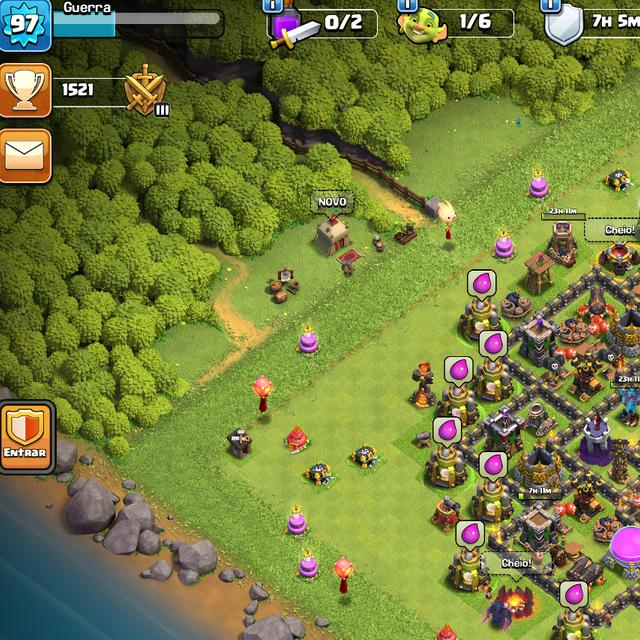Elixir: (559, 580, 590, 614), (468, 268, 498, 302), (444, 357, 474, 389), (432, 416, 462, 448), (456, 518, 484, 552), (479, 452, 508, 484), (480, 330, 508, 362)
